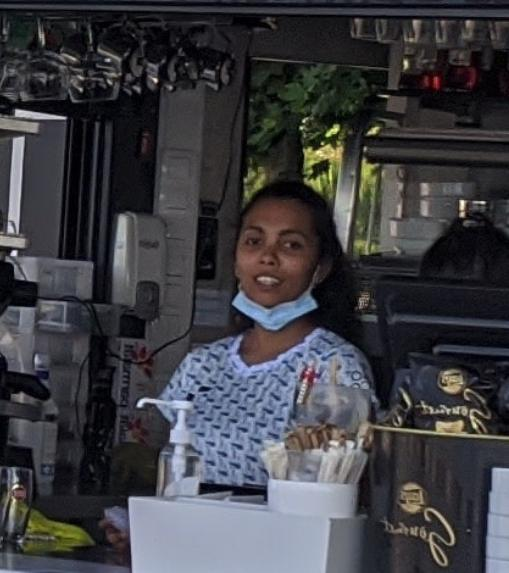mask_weared_incorrect: (234, 222, 312, 326)
